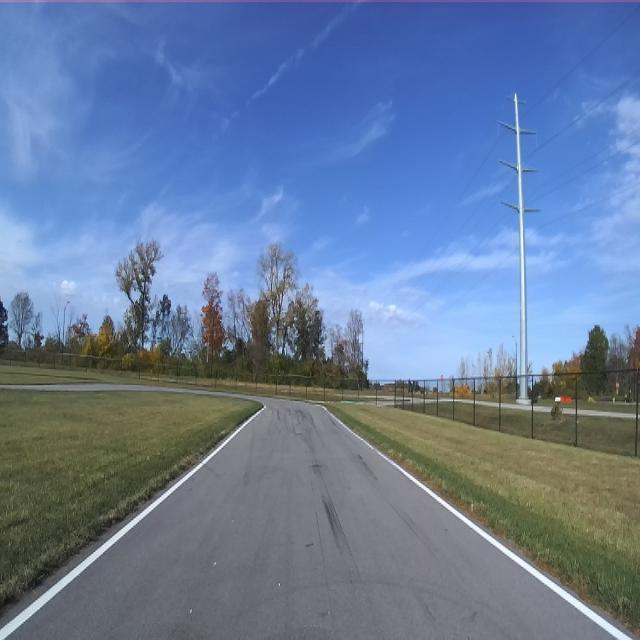white-line: (316, 404, 632, 639), (0, 404, 266, 639)
